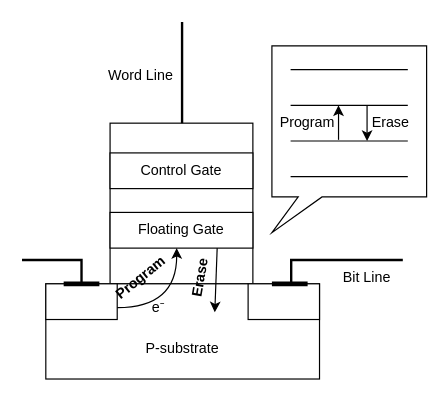
Image size: 447x400. Some labels were removed from this diagram. Here are the shapes that lost their labels. From the top down, the centre of each, then its label:
the point at 81,301: Source N+
the point at 283,301: Drain N+
